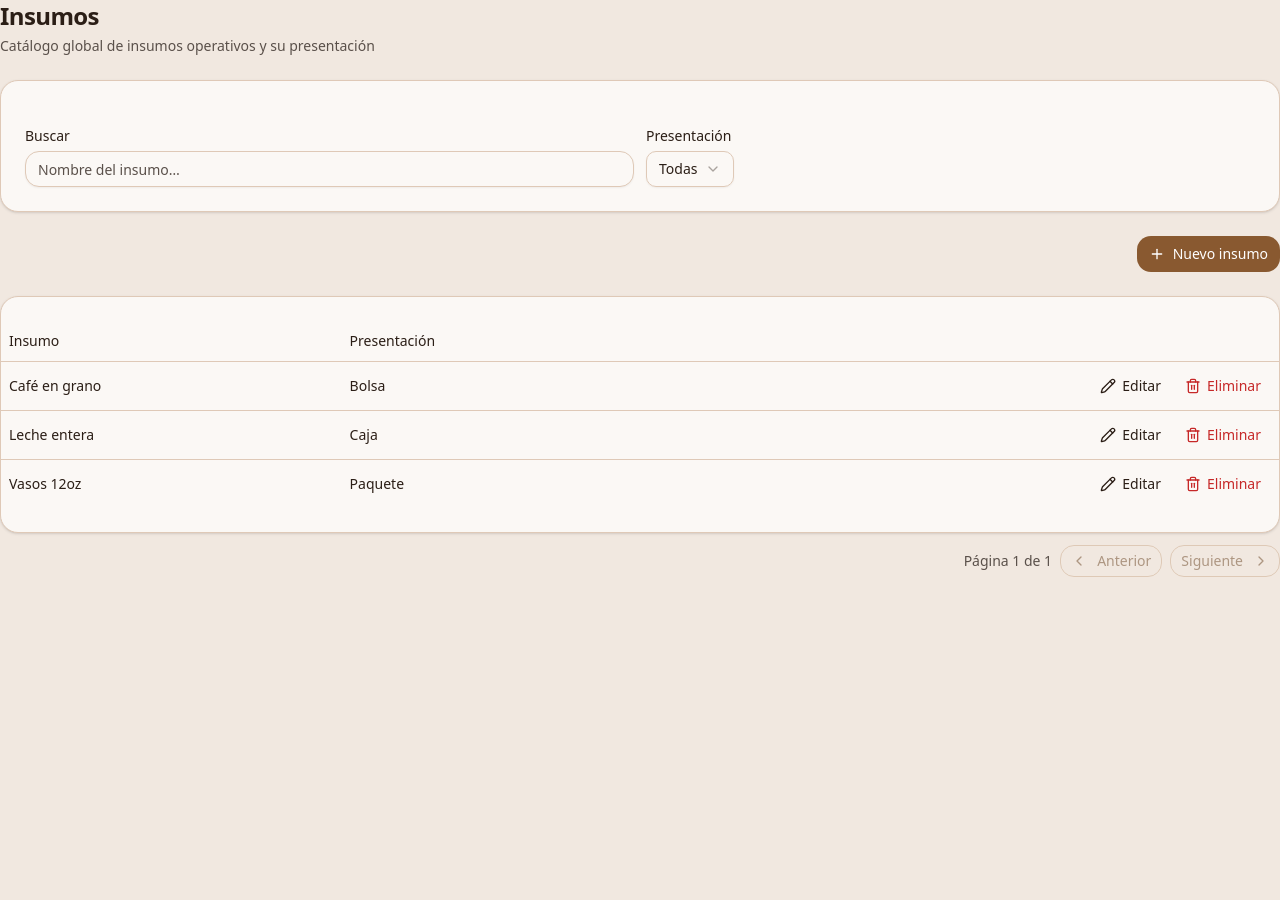
Test: Catálogo de insumos › crea un insumo y lo muestra en el catálogo
Expected: the text "Café en grano" is shown, 9,376 -> 101,394
Click the button "Nuevo insumo".
click(1208, 254)  # box 1137,236 -> 1279,272
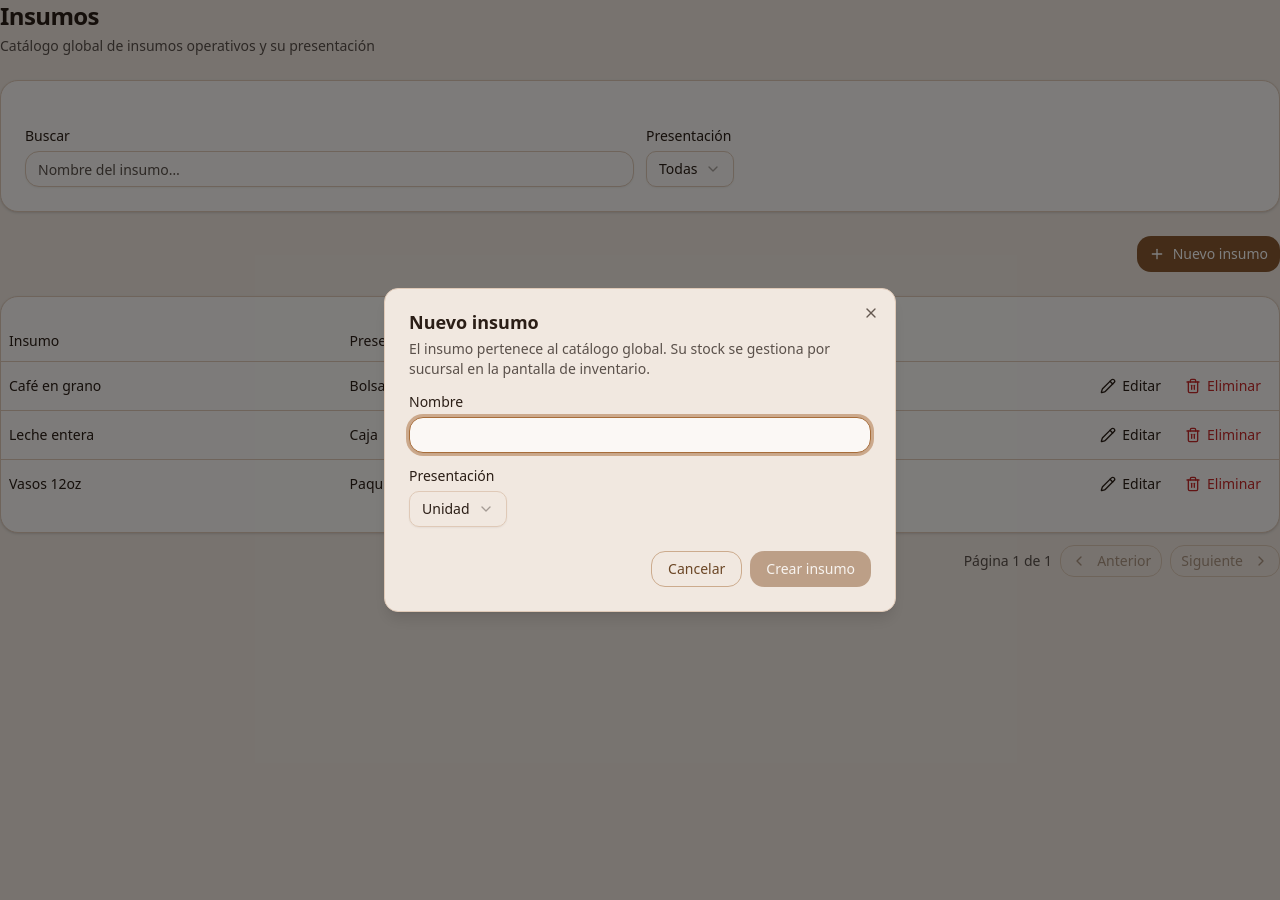
Type "Azúcar rubia" into the field labelled "Nombre".
click(640, 435); type("Azúcar rubia")  # box 409,417 -> 871,453
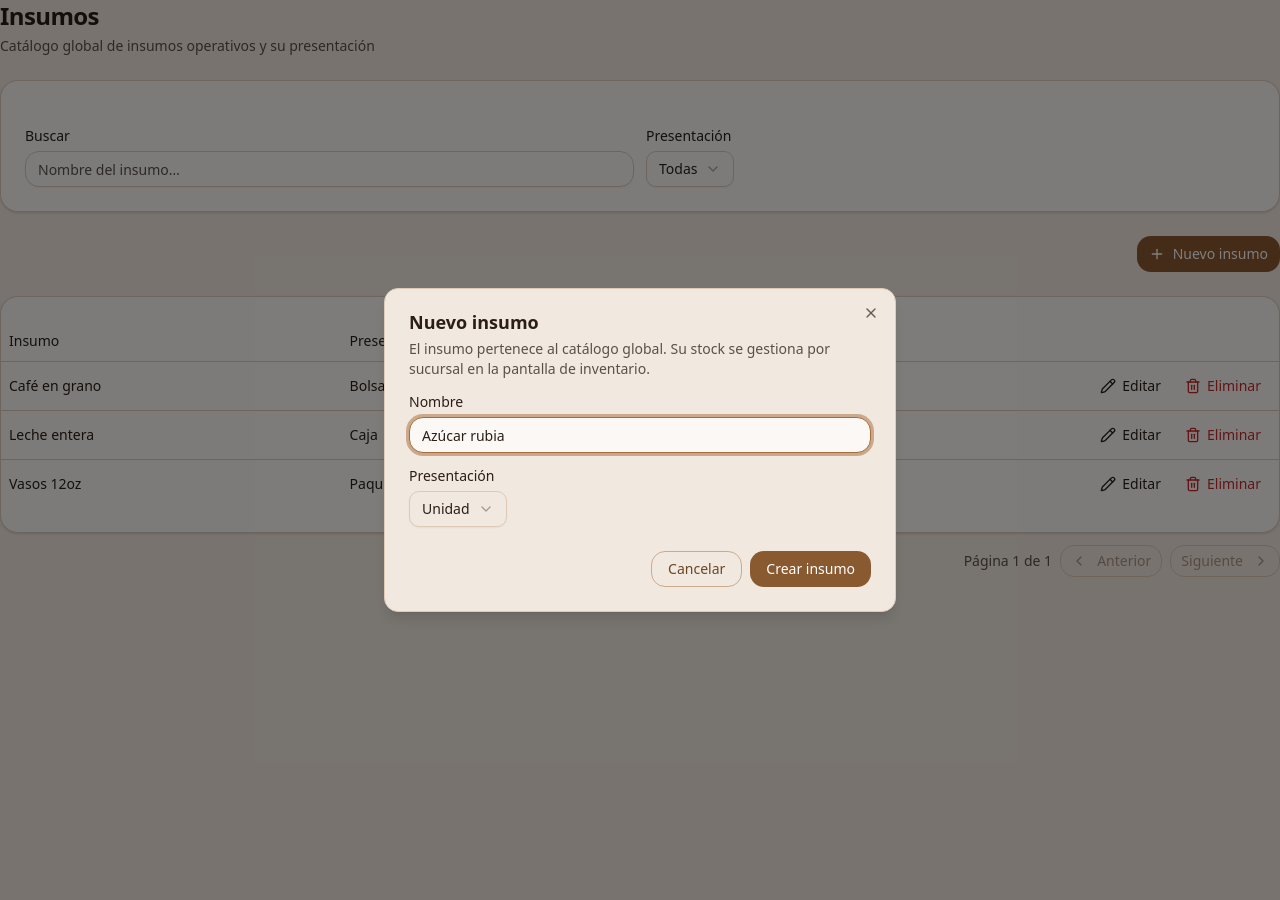
Click the dropdown named "Presentación".
click(458, 509)  # box 409,491 -> 507,527
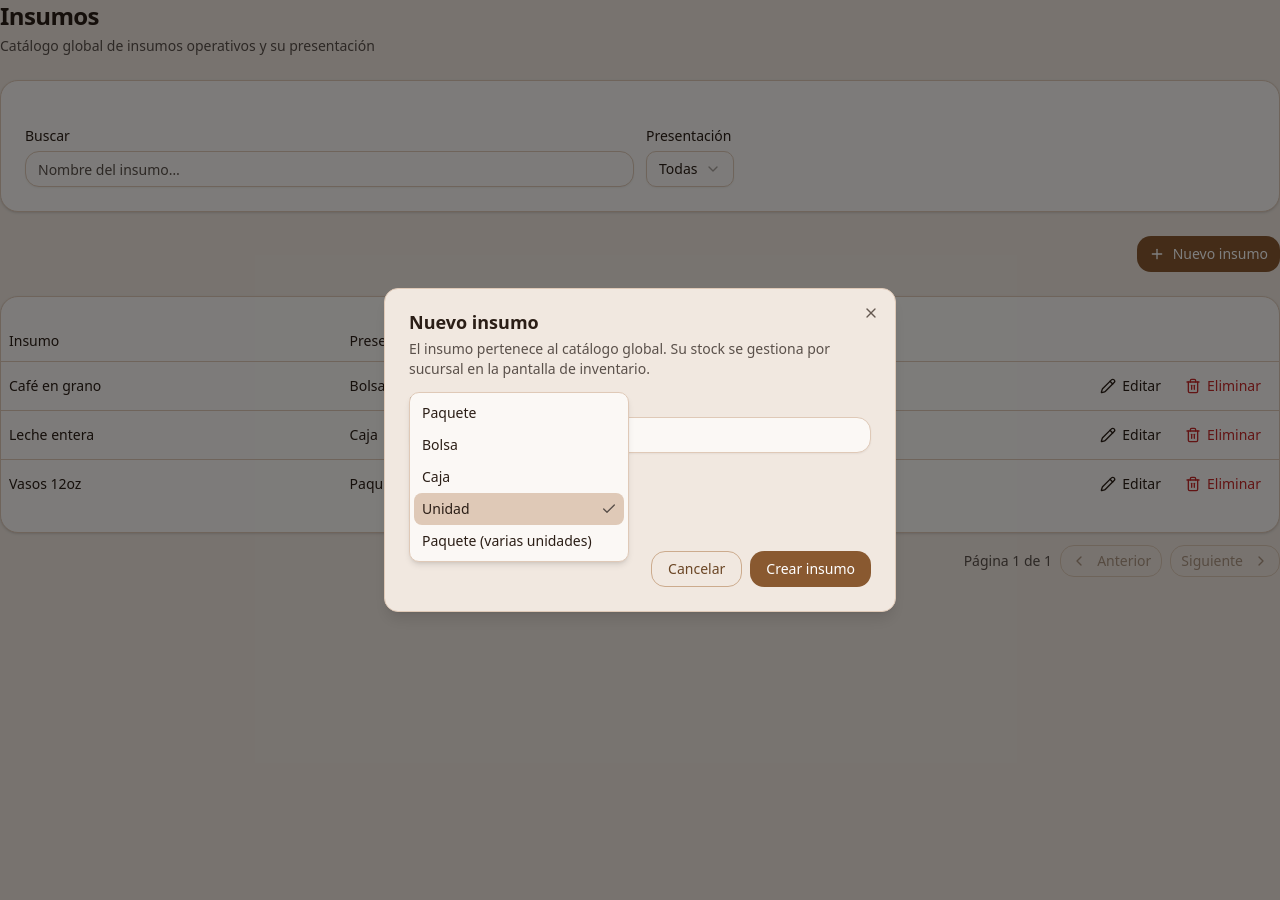
Click the option "Bolsa".
click(440, 444)  # box 422,435 -> 458,454
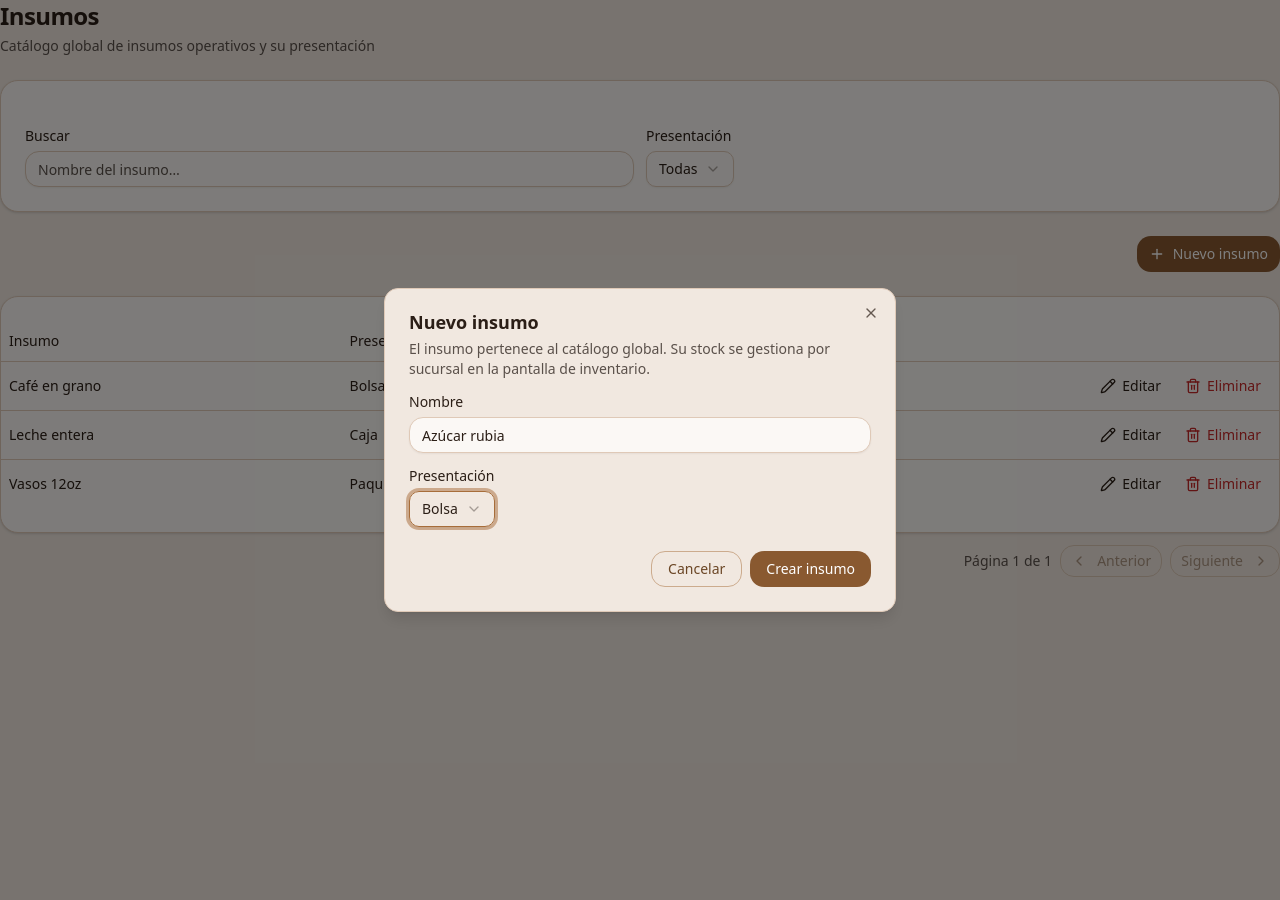
Click the button "Crear insumo".
click(811, 569)  # box 750,551 -> 871,587
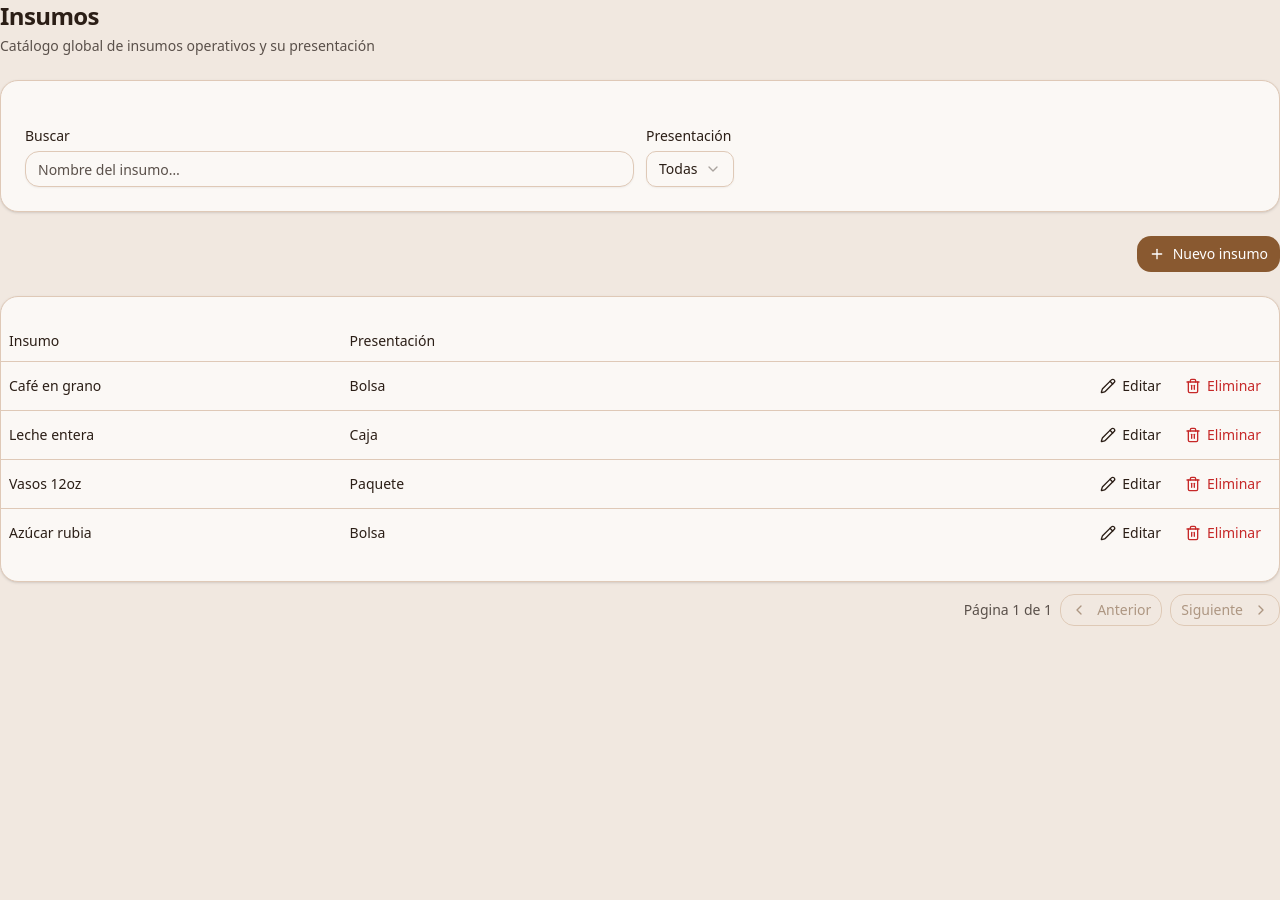
Expected: the text "Azúcar rubia" is shown, 9,522 -> 92,542
